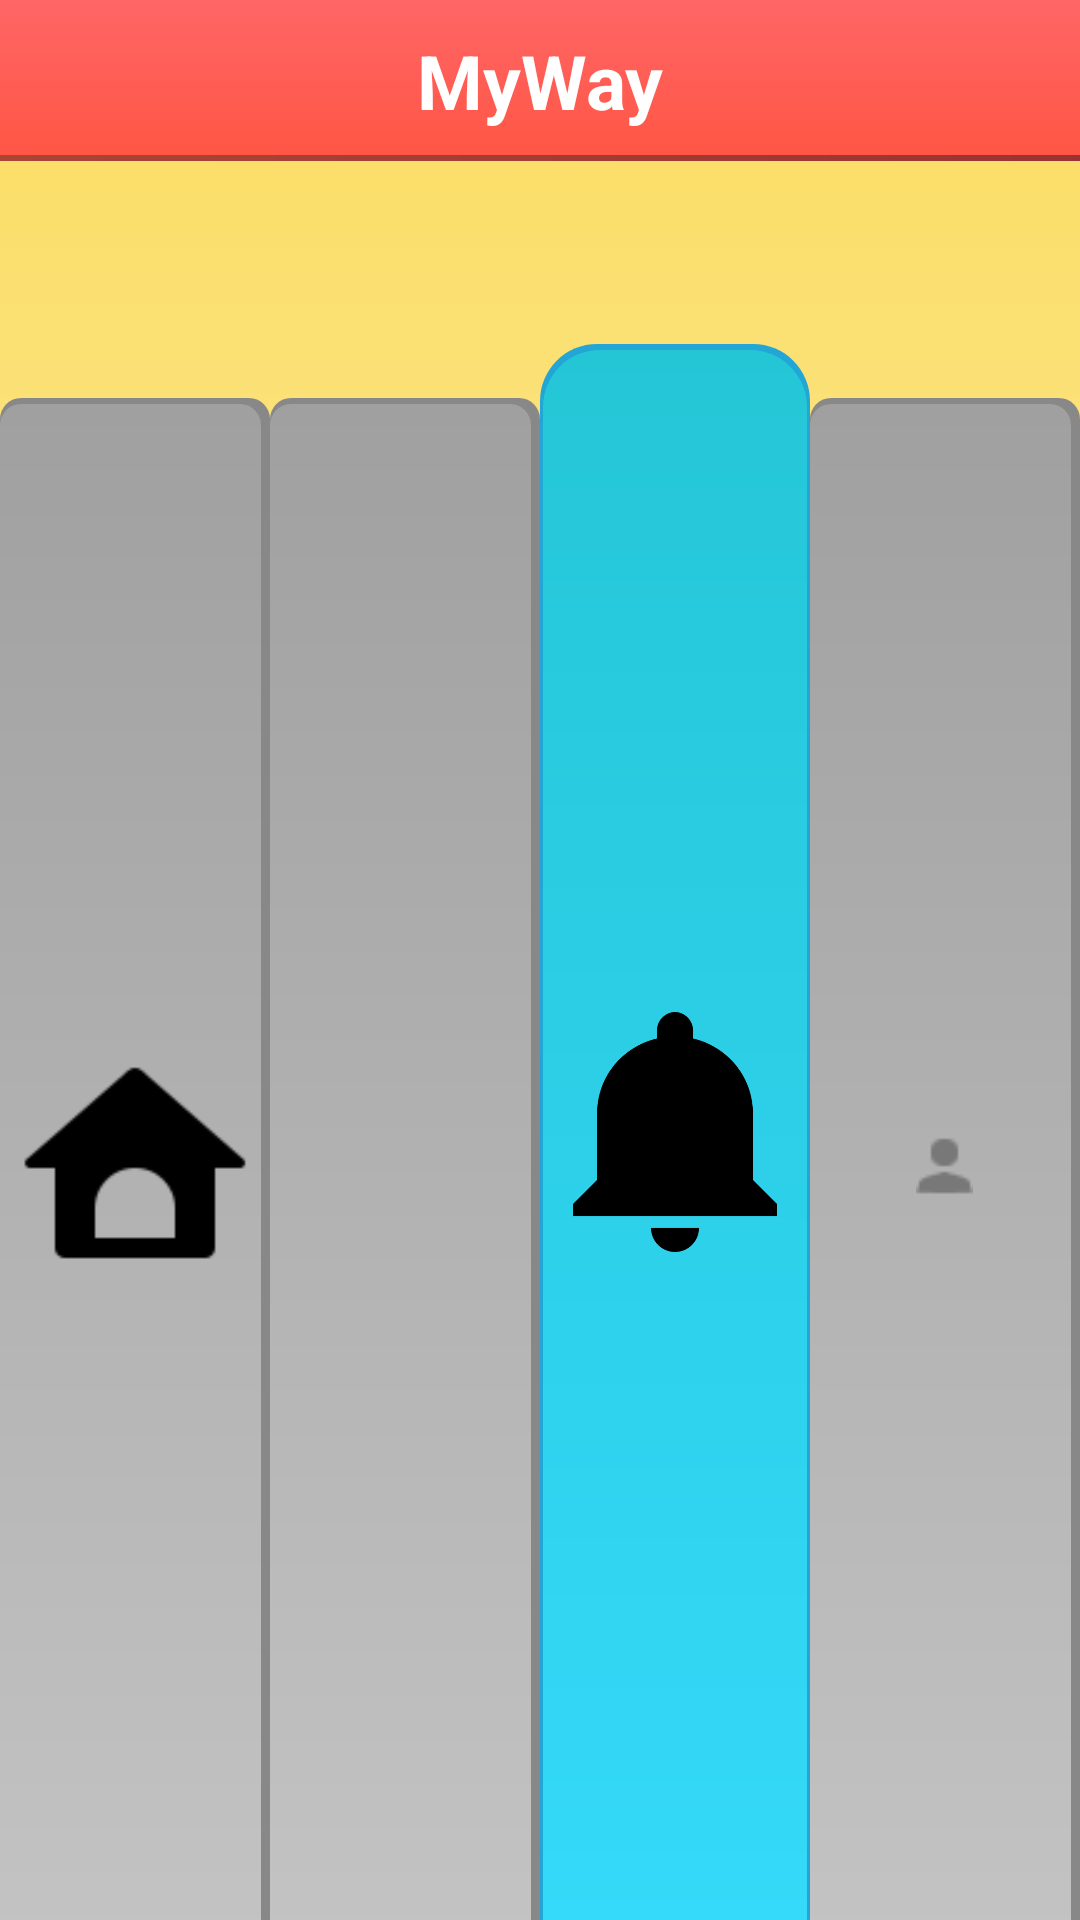

Where icons sit on this 1080px×1920px app screen, as {"left": x1, "top": y1, "right": x2, "bottom": y2}:
home: {"left": 24, "top": 1067, "right": 246, "bottom": 1259}
noti: {"left": 573, "top": 1012, "right": 777, "bottom": 1252}
pro: {"left": 916, "top": 1139, "right": 973, "bottom": 1193}
